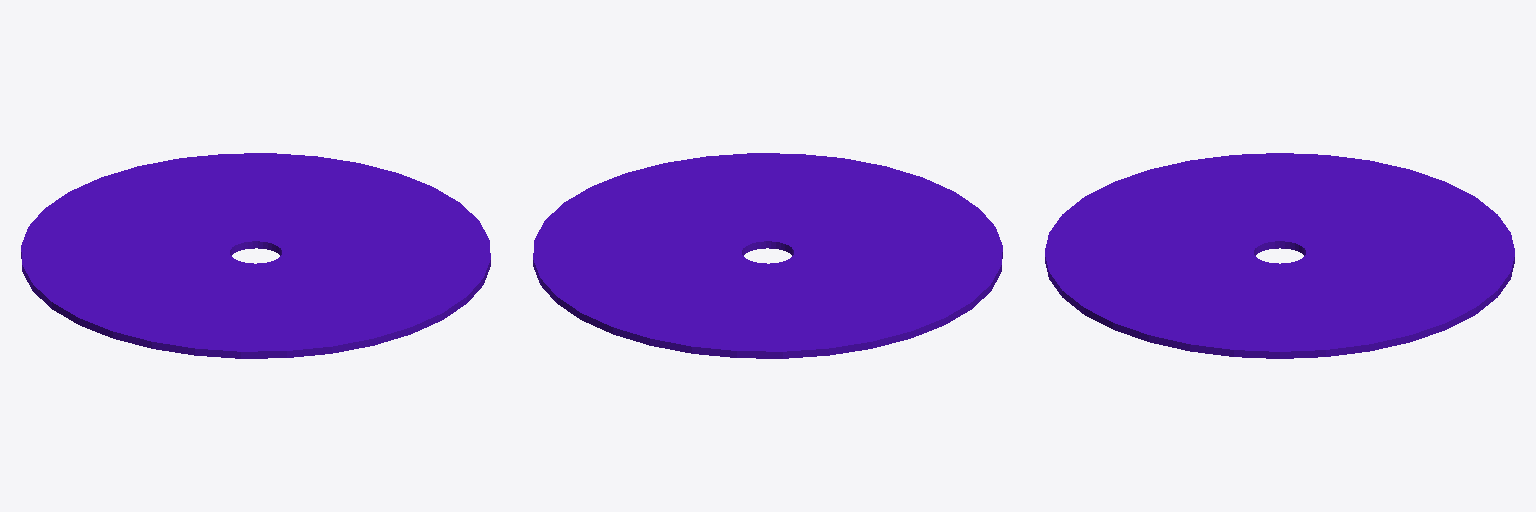
Rendered from Please.obj.
3 views of the same model, side by side, from view 1: azimuth 30°, elevation 25°; view 2: azimuth 150°, elevation 25°; view 3: azimuth 270°, elevation 25° (orthographic).
Visible parts, largest first — view 1: Circle; view 2: Circle; view 3: Circle.
Part boxes in pixels (x1,y1,x2,y2): Circle: (21, 153, 490, 358); Circle: (533, 153, 1002, 358); Circle: (1045, 153, 1514, 358).
Bounding box in the file's own units: 80 × 1.34 × 80.